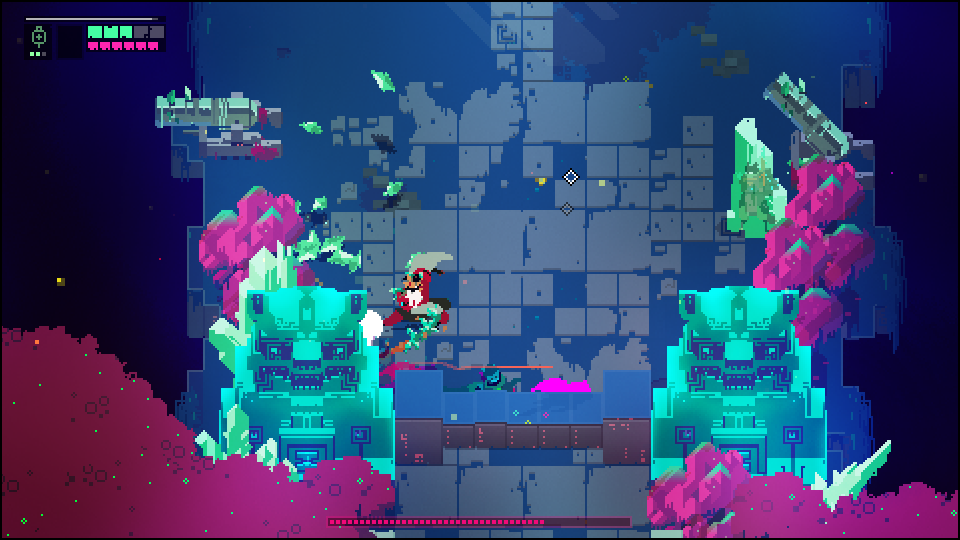hanged_man: (373, 247, 456, 355)
